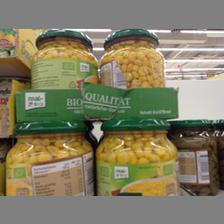Mais: (91, 120, 179, 196), (5, 122, 93, 195), (97, 29, 167, 88), (31, 28, 97, 84)
